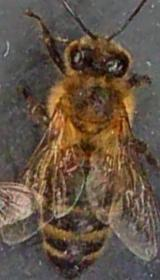varroa_mite: (50, 147, 89, 176)
